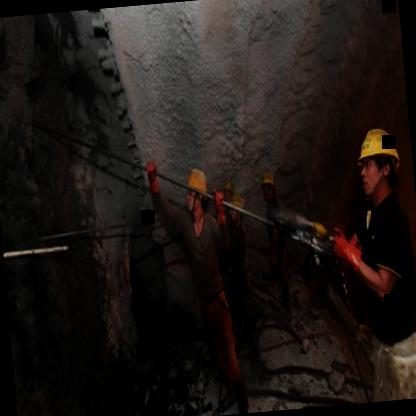helmet: (347, 118, 408, 205), (183, 164, 212, 224), (256, 166, 278, 208), (227, 194, 248, 224), (219, 176, 236, 206)
